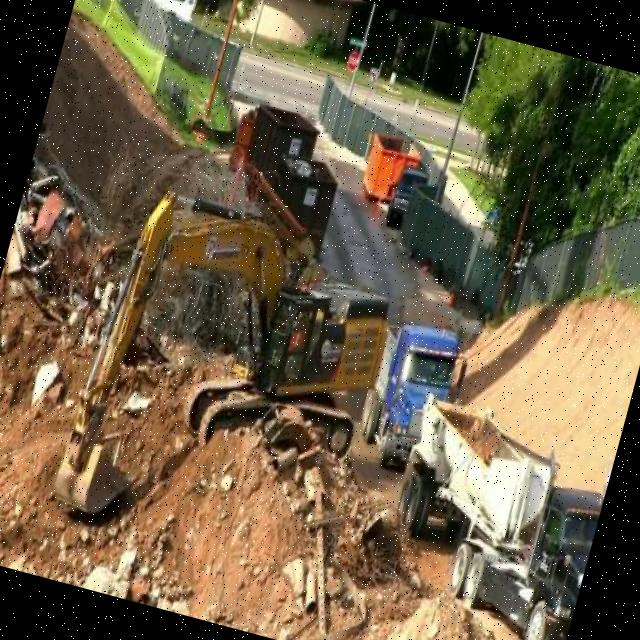Dump Truck: (365, 387, 619, 640), (354, 308, 476, 479)
Excavator: (48, 176, 405, 574)
